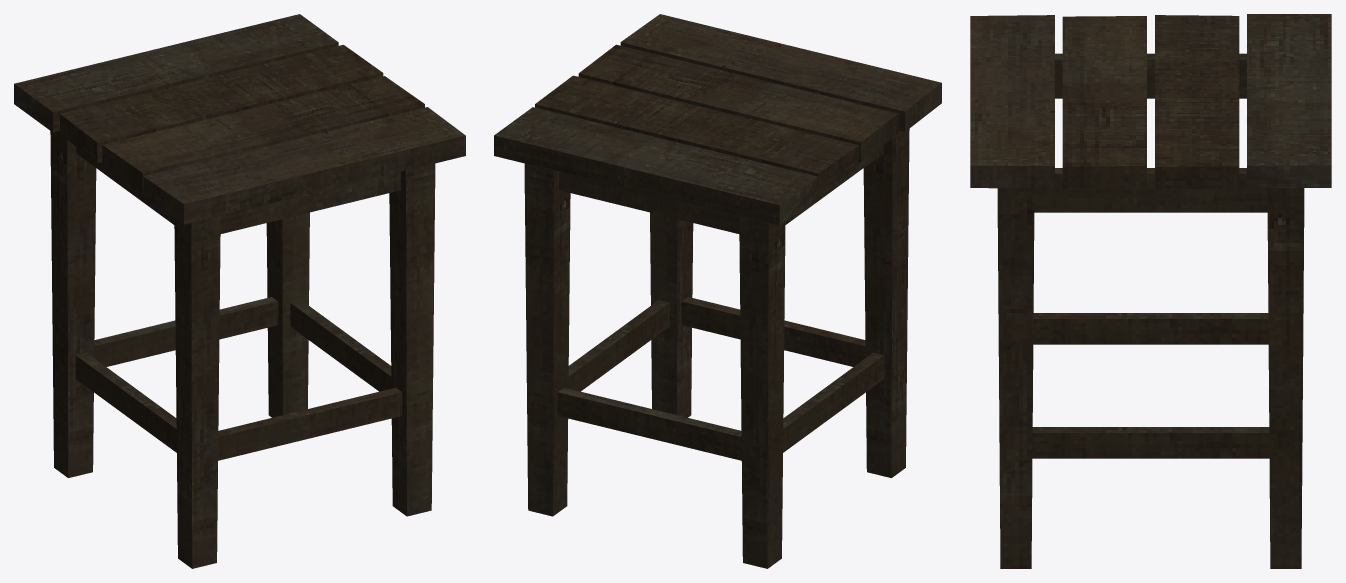
The model's file is chair_mp_1_4.glb.
3 renders of one model, left to right at view 1: azimuth 30°, elevation 25°; view 2: azimuth 150°, elevation 25°; view 3: azimuth 270°, elevation 25°, orthographic. The views are drawn at different scales.
Visible parts, largest first — view 1: chair_mp_1_4; view 2: chair_mp_1_4; view 3: chair_mp_1_4.
Boxes of the visible parts, <box> form: chair_mp_1_4: <box>14,14,465,568</box>; chair_mp_1_4: <box>494,14,941,568</box>; chair_mp_1_4: <box>970,14,1331,568</box>.
Bounding box in the file's own units: 0.4707 × 0.594 × 0.47.
Materials: 1 (1 with a texture image).
